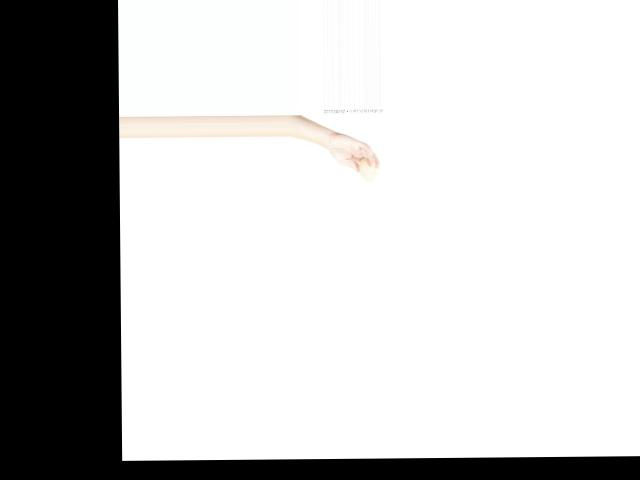egg: (358, 157, 376, 181)
